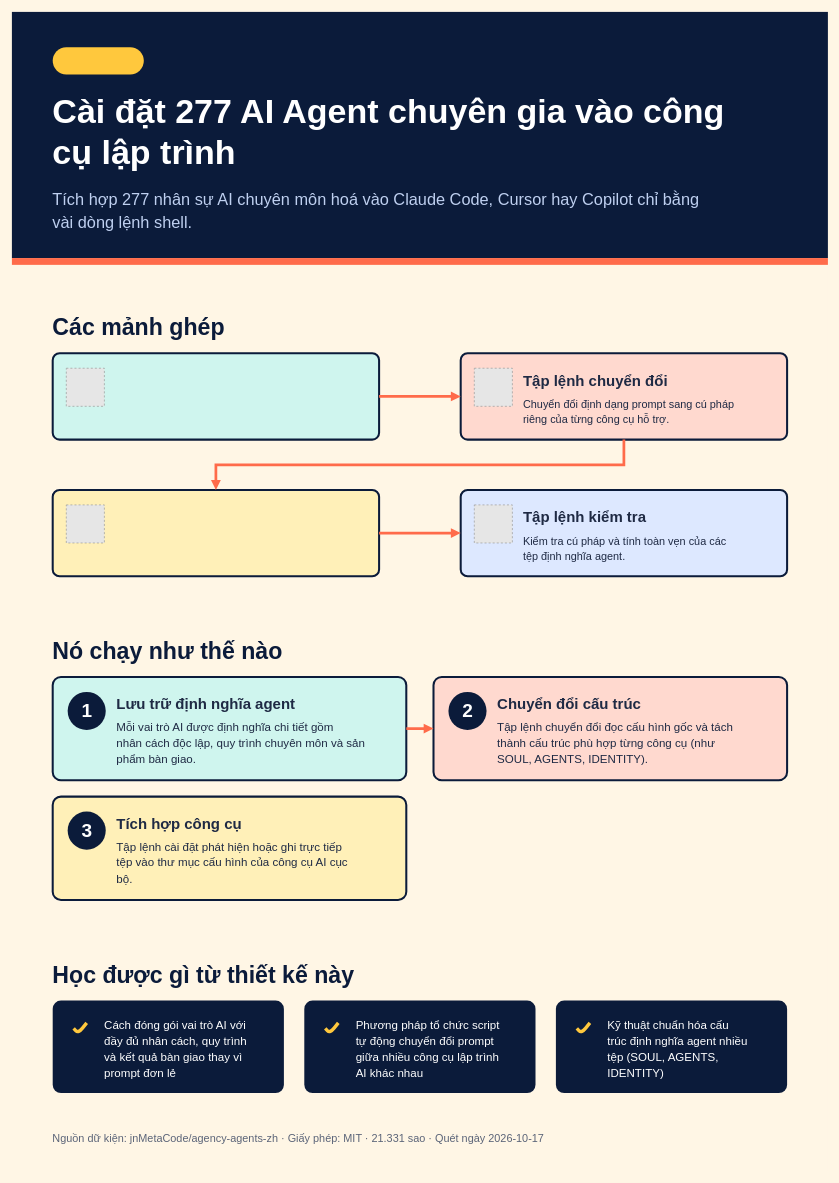
This 839x1183 diagram has some shape labels left out. Grey dashed boxes stand in for pictures. Here are the shapes that lost their labels. From the top down, the box of each, then its label:
(52, 47, 143, 74): Giải pháp
(51, 352, 380, 440): Thư mục chuyên ngành Chứa định nghĩa của 277 AI agent theo 20 bộ phận công việc.
(51, 489, 380, 577): Tập lệnh cài đặt Tự động phát hiện và cài đặt các agent vào môi trường AI đích.
